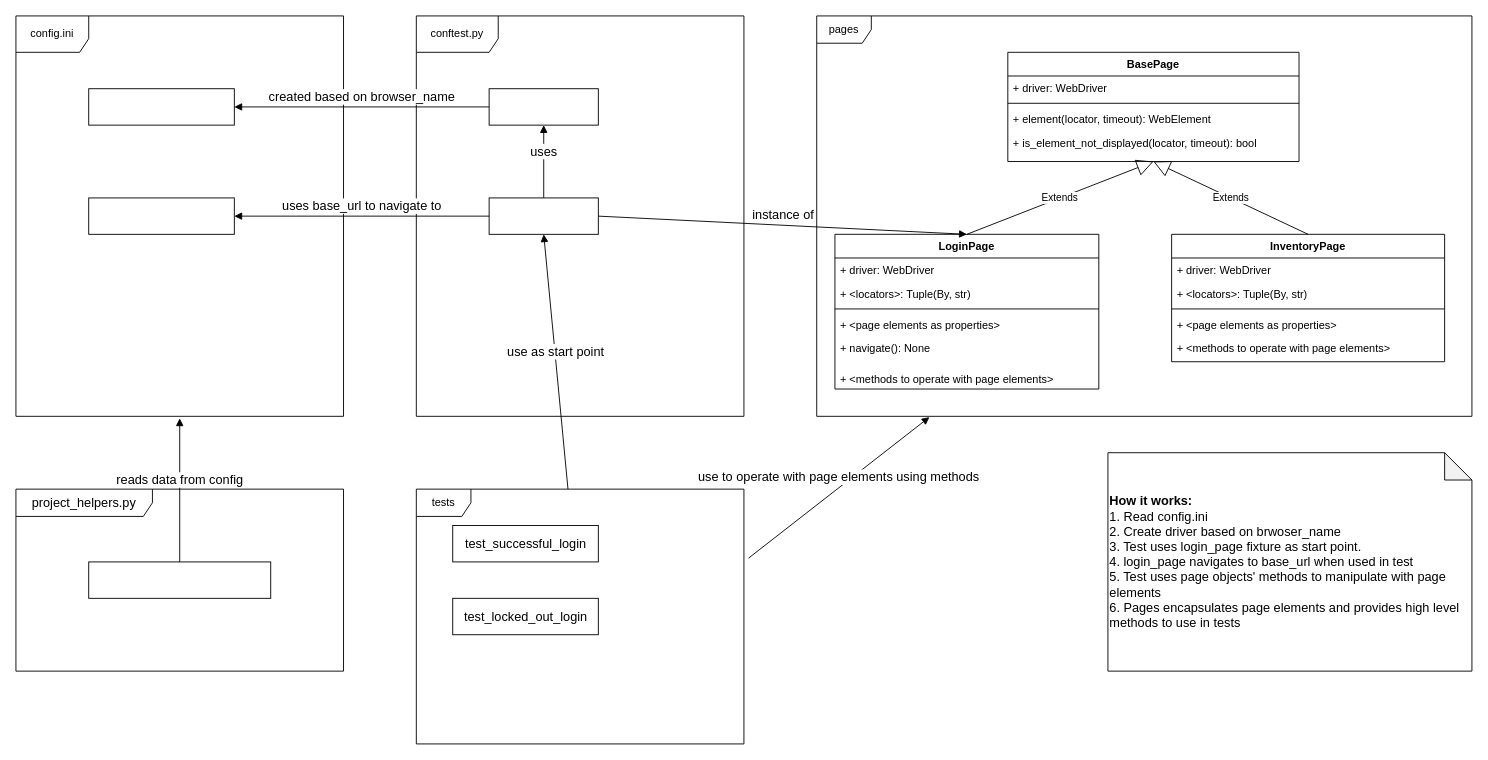
The diagram is 1488 pixels wide and 760 high, and some of its shapes have lost their labels. The shapes that lost their labels are listed below. From the top down, each one's centre as x and y in pixels, then its label:
At (161,106): "browser_name: str".
At (543,106): "driver".
At (161,215): "base_url".
At (543,215): "login_page".
At (179,579): "get_config_data()".
